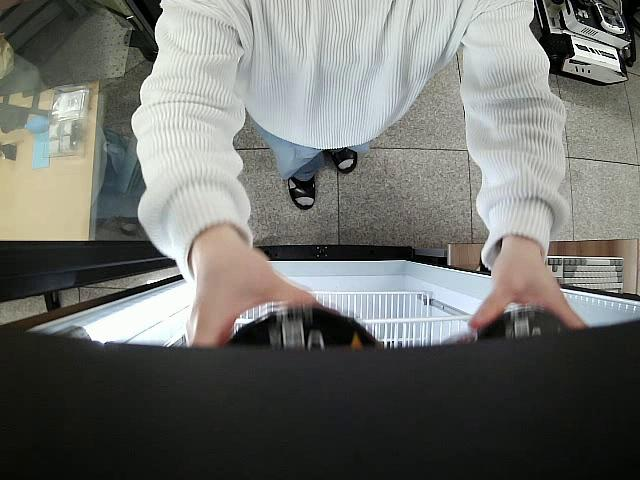00_hand: (183, 237, 341, 354), (469, 233, 588, 337)
01_shinRamen_L: (228, 302, 387, 352), (449, 307, 577, 343)
